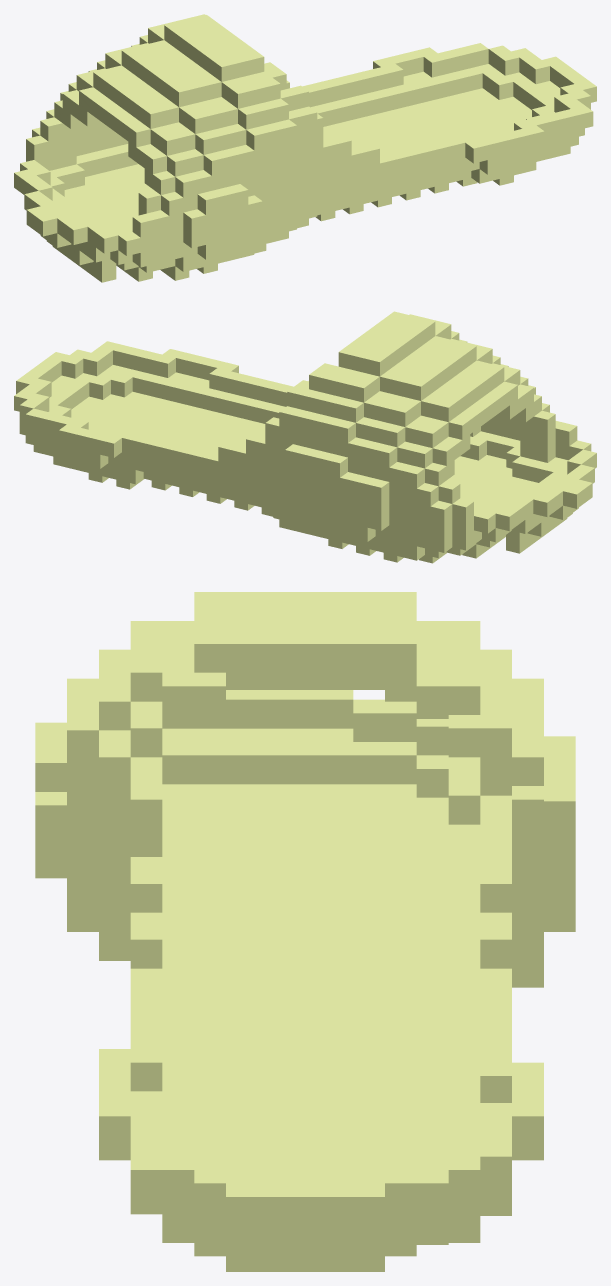
File: Bone.fbx
3 views of the same model, one above another, from view 1: azimuth 30°, elevation 25°; view 2: azimuth 150°, elevation 25°; view 3: azimuth 270°, elevation 25° (orthographic). The views are drawn at different scales.
Parts seen in each view (by area): view 1: Untitled; view 2: Untitled; view 3: Untitled.
Part boxes in pixels (x1,y1,x2,y2): Untitled: [14, 14, 596, 282]; Untitled: [14, 311, 596, 563]; Untitled: [35, 592, 575, 1271].
Size of the model in its own units: 390 by 120 by 170.
